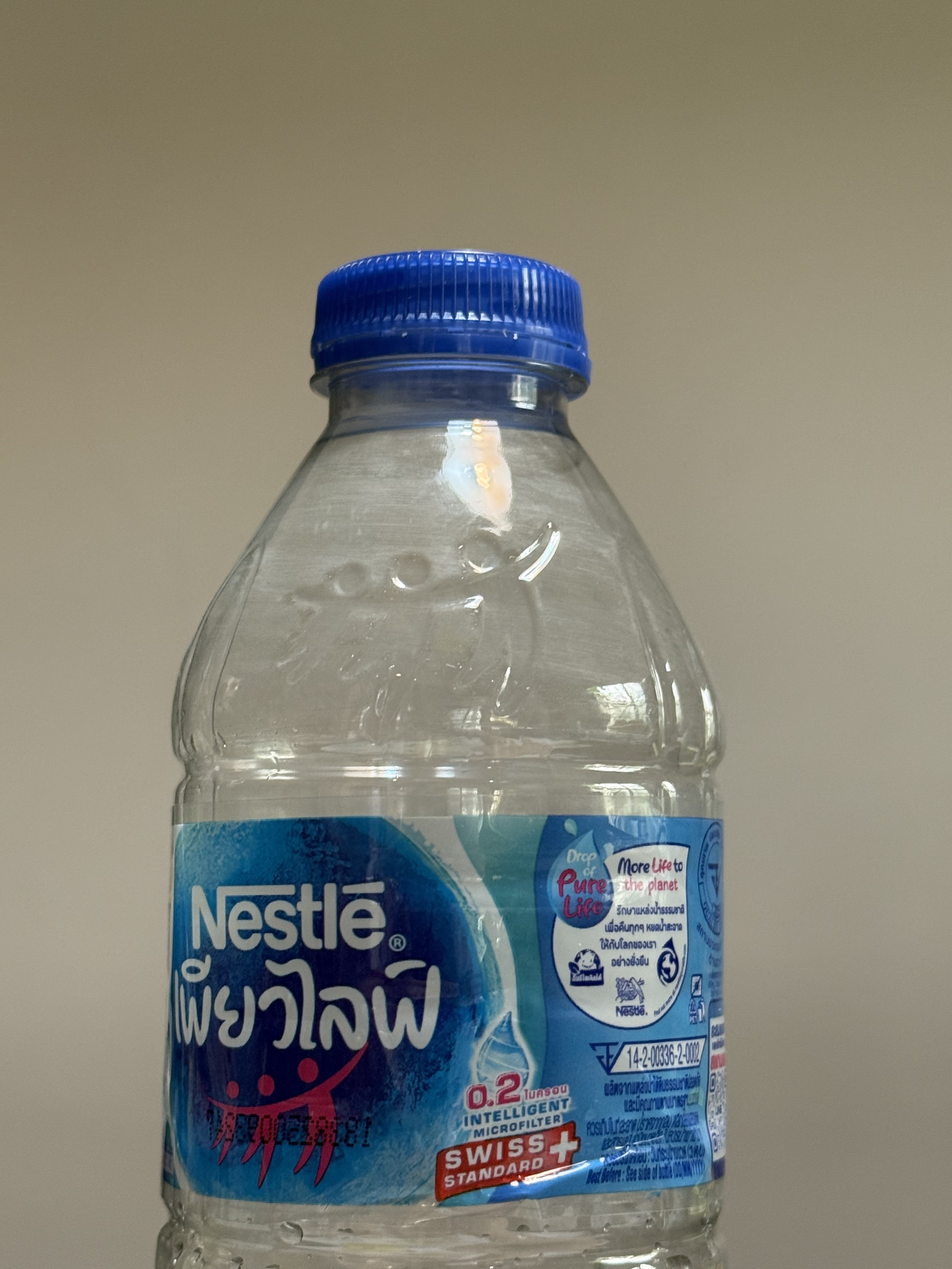closed_cap: (306, 245, 594, 398)
